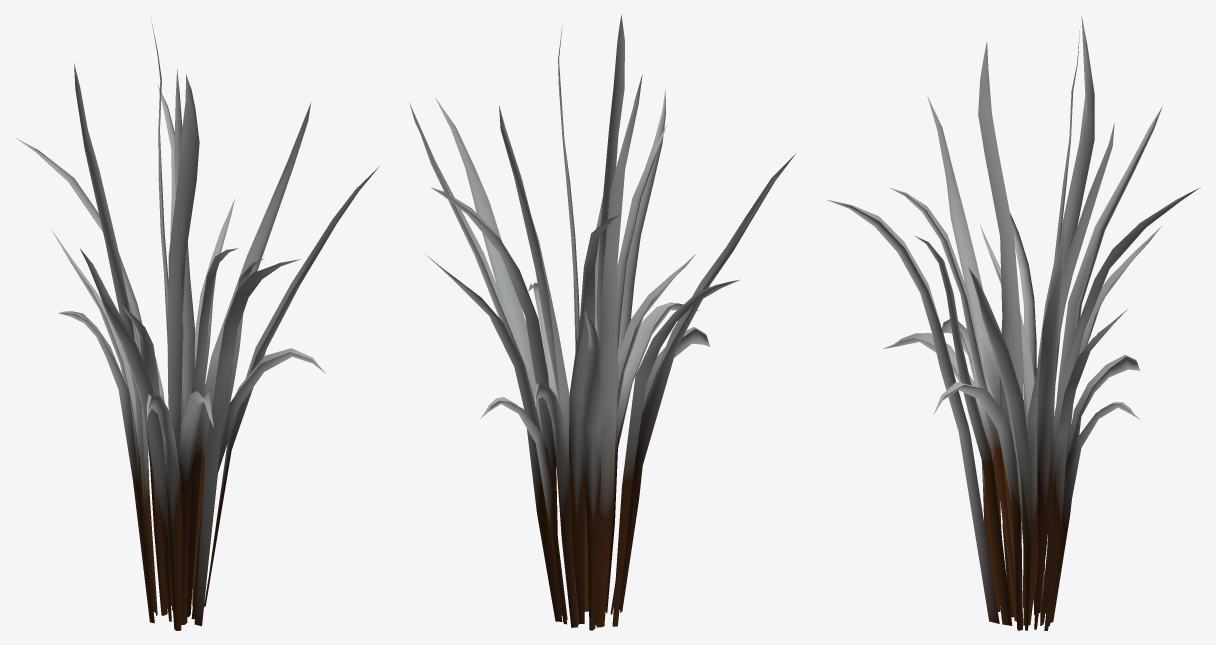
The picture shows the model from 3 angles, left to right: view 1: azimuth 30°, elevation 25°; view 2: azimuth 150°, elevation 25°; view 3: azimuth 270°, elevation 25°; orthographic projection. The views are drawn at different scales.
Visible parts, largest first — view 1: G:\FFXIV-MapTools\exports\n4t1\bg\ex3\01_nvt_n4\twn\n4t1\bgp; view 2: G:\FFXIV-MapTools\exports\n4t1\bg\ex3\01_nvt_n4\twn\n4t1\bgp; view 3: G:\FFXIV-MapTools\exports\n4t1\bg\ex3\01_nvt_n4\twn\n4t1\bgp.
Boxes of the visible parts, bbox=[...] form: G:\FFXIV-MapTools\exports\n4t1\bg\ex3\01_nvt_n4\twn\n4t1\bgp: bbox=[16, 18, 379, 630]; G:\FFXIV-MapTools\exports\n4t1\bg\ex3\01_nvt_n4\twn\n4t1\bgp: bbox=[409, 14, 795, 630]; G:\FFXIV-MapTools\exports\n4t1\bg\ex3\01_nvt_n4\twn\n4t1\bgp: bbox=[826, 16, 1200, 630].
Bounding box in the file's own units: 6.44 × 11.17 × 6.36.
